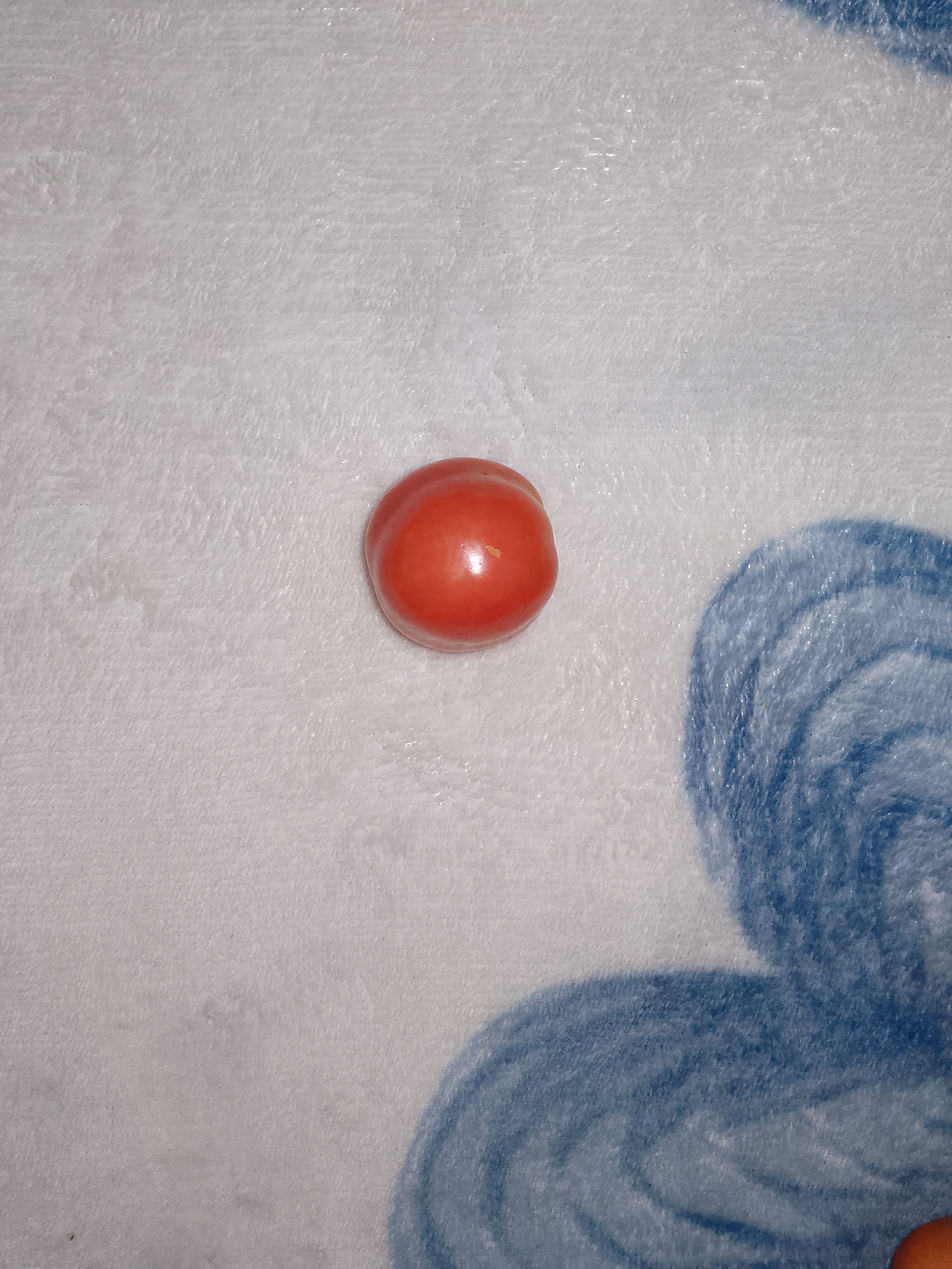Ripe: (322, 433, 618, 688)
